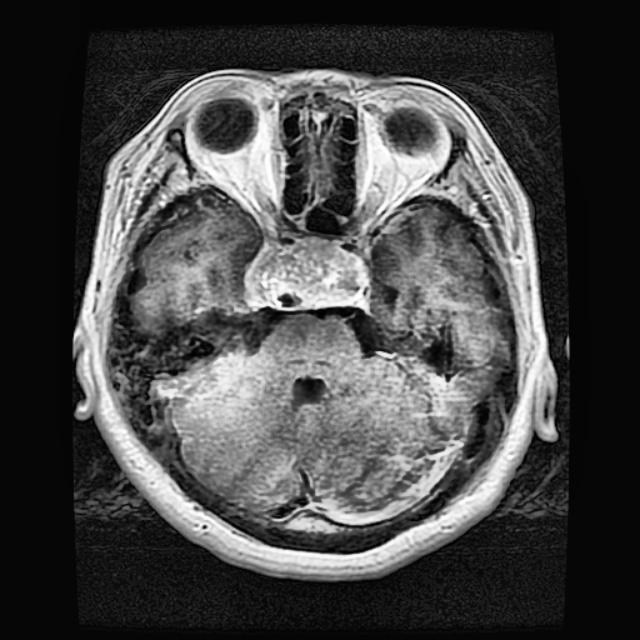Pituitary: (247, 240, 367, 303)
